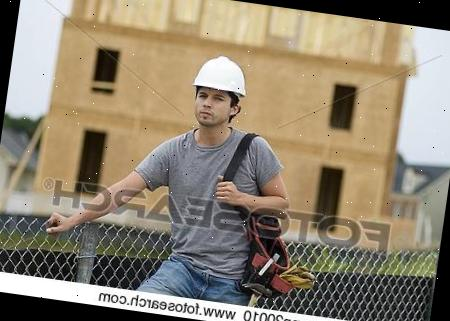helmet: (189, 51, 253, 98)
no_wear: (146, 130, 273, 286)
